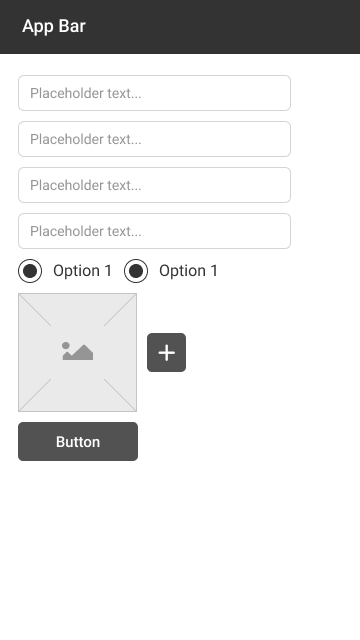button: (16, 420, 140, 463)
buttonIcon: (145, 330, 188, 375)
editText: (16, 163, 294, 206), (14, 71, 293, 112), (16, 119, 293, 160), (18, 211, 293, 250)
imageView: (16, 290, 140, 414)
radioButton: (120, 258, 220, 283), (14, 258, 114, 282)
toolbar: (1, 1, 359, 56)
